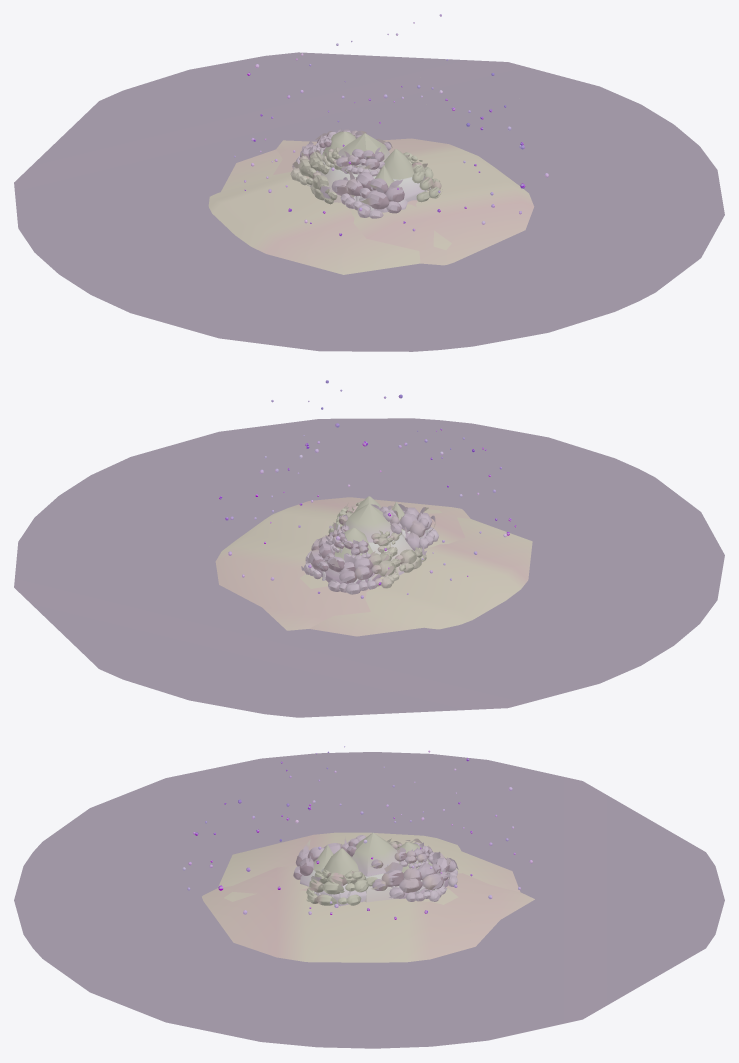
3 renders of one model, top to bottom at view 1: azimuth 30°, elevation 25°; view 2: azimuth 150°, elevation 25°; view 3: azimuth 270°, elevation 25°, orthographic.
Parts seen in each view (by area): view 1: Island1_0000, Trees4_0000; view 2: Island1_0000, Trees4_0000; view 3: Island1_0000, Trees4_0000.
Part boxes in pixels (<box>): Island1_0000: <box>14,52,724,351</box>; Trees4_0000: <box>234,14,548,236</box>; Island1_0000: <box>14,418,724,717</box>; Trees4_0000: <box>219,380,516,598</box>; Island1_0000: <box>14,752,724,1048</box>; Trees4_0000: <box>182,746,532,919</box>.
Bounding box in the file's own units: 208 × 78.98 × 210.
